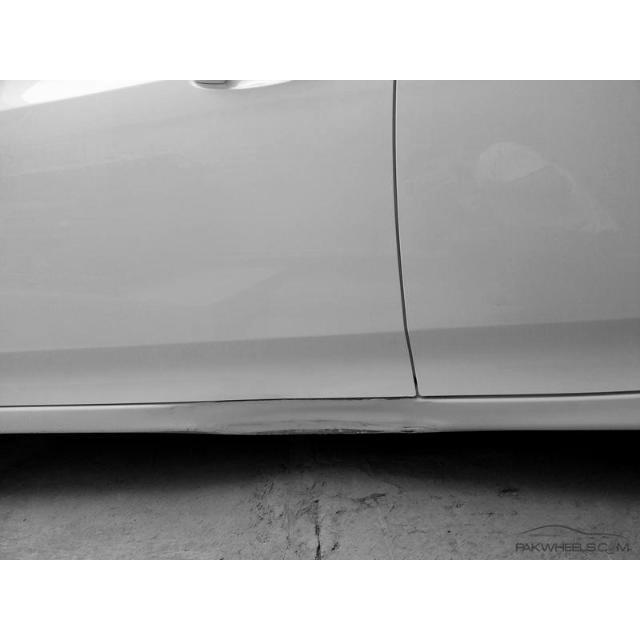Runningboard-Damage: (102, 388, 486, 451)
